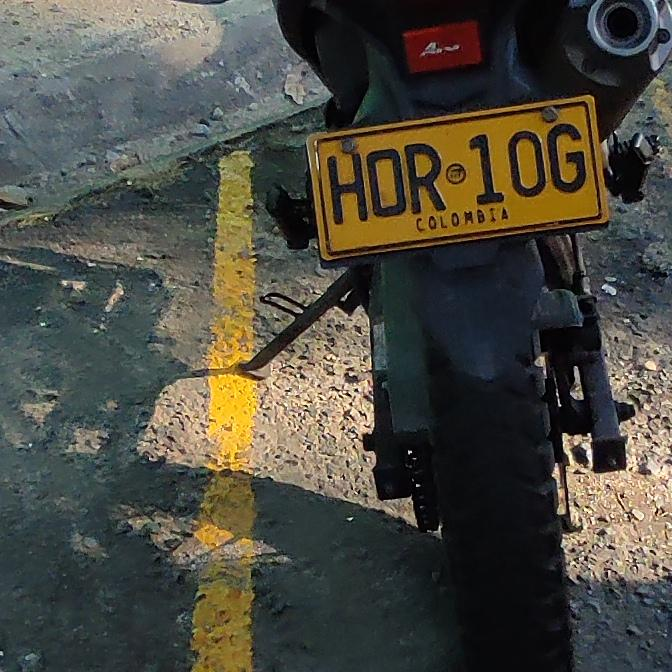plates: (309, 101, 606, 260)
